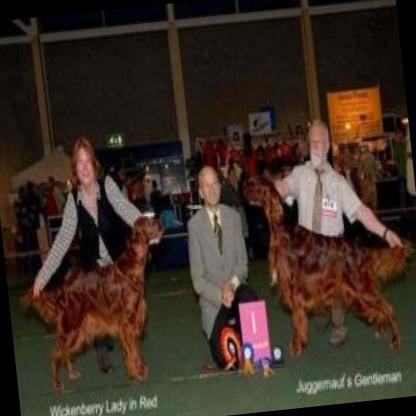Irish_setter: (235, 150, 416, 366), (6, 204, 186, 394)
